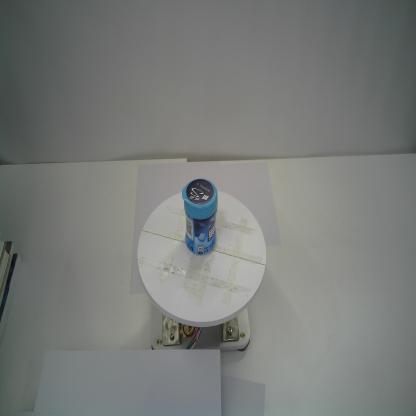Gum: (181, 177, 219, 257)
